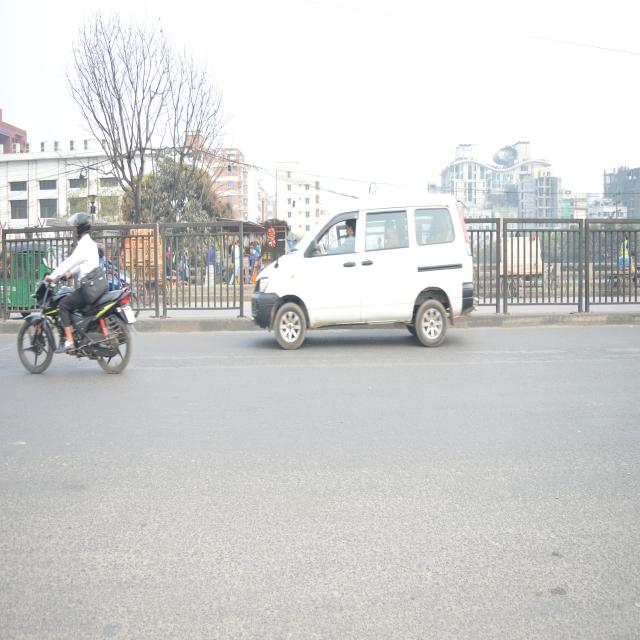microbus: (240, 193, 485, 364)
motorbike: (20, 268, 136, 380)
